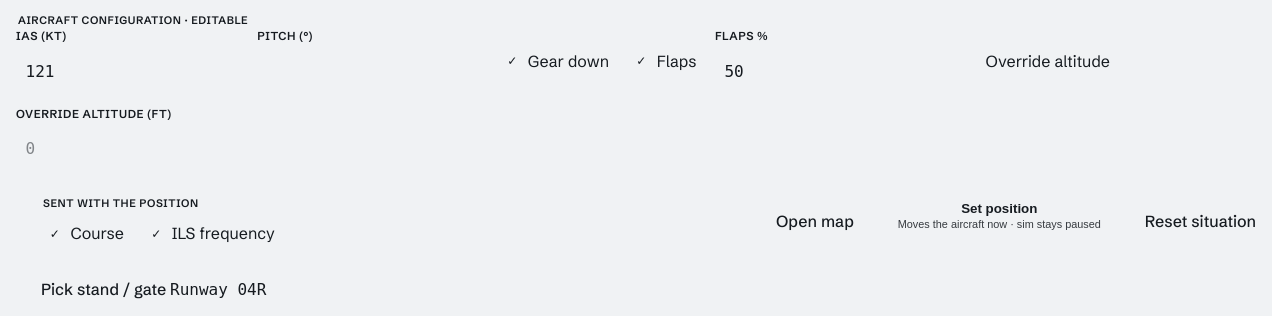
Test: Set position › reports the read-back state, never the request
The width and height of the screenshot is (1272, 316).
Click the button "Set position Moves the aircraft now · sim stays paused" at (999, 221), box [874,195,1125,247]
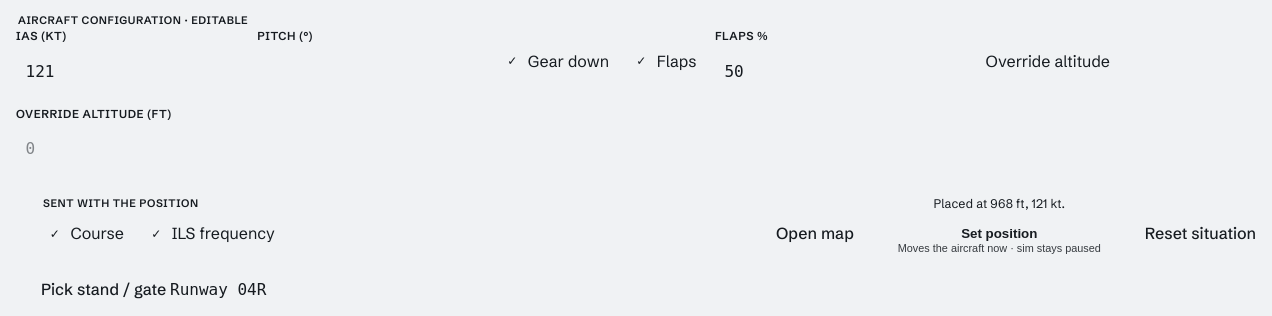
expect the text "Placed at 968 ft, 121 kt." is shown: met, box [934,195,1065,214]
